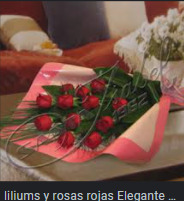RedRose: (60, 131, 79, 151), (35, 90, 53, 110), (86, 133, 105, 151), (94, 113, 113, 131), (89, 75, 106, 95), (36, 113, 52, 131), (58, 93, 77, 108), (114, 98, 134, 111), (84, 97, 102, 111), (67, 110, 80, 129), (78, 82, 90, 95), (63, 80, 73, 94)
